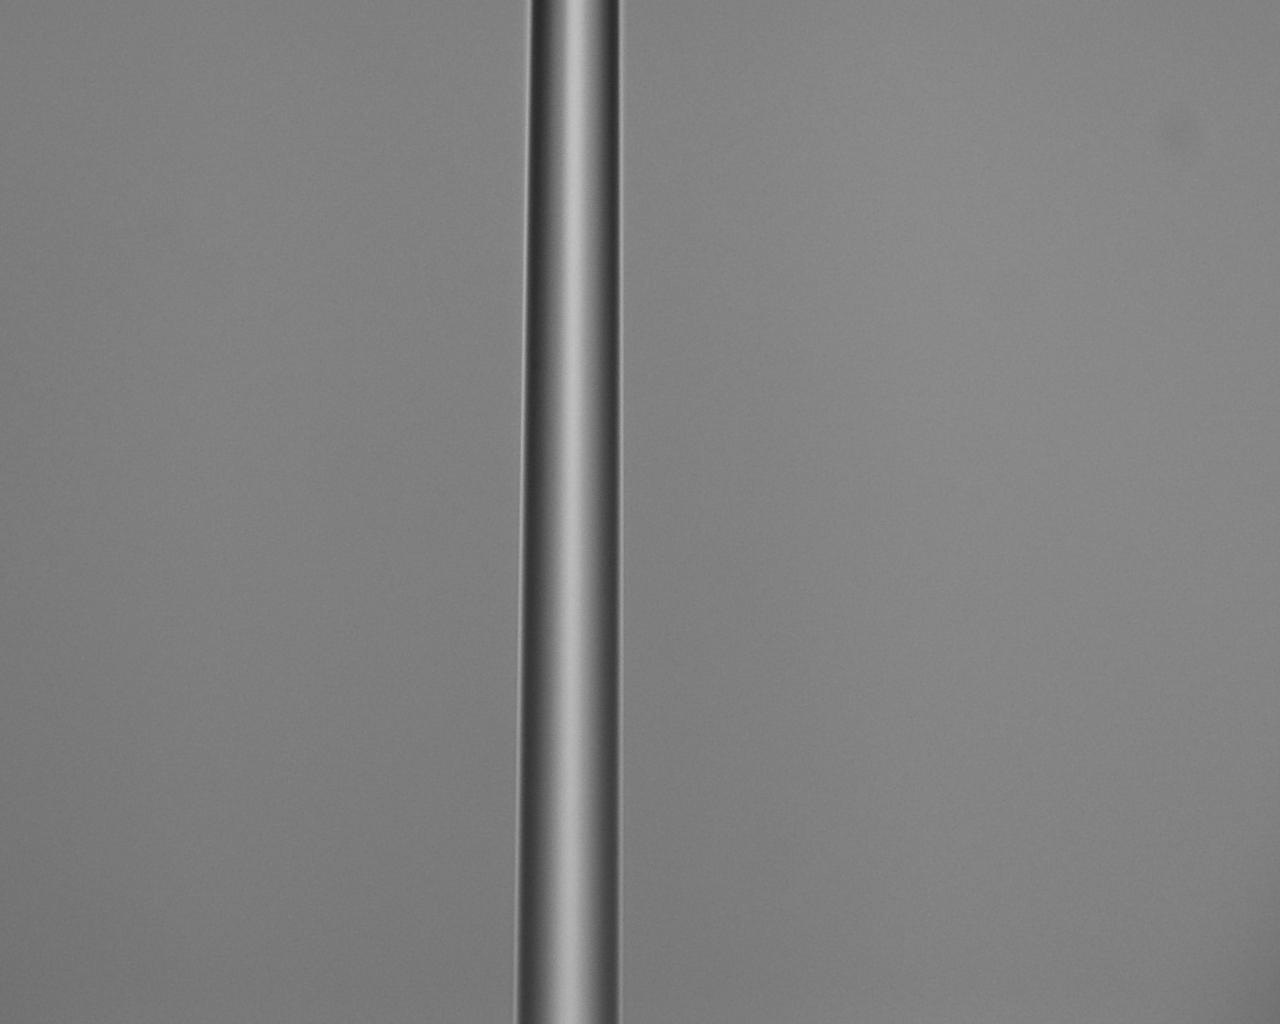fiber: (755, 100, 1280, 370), (0, 512, 204, 1024), (884, 512, 1065, 1024)
